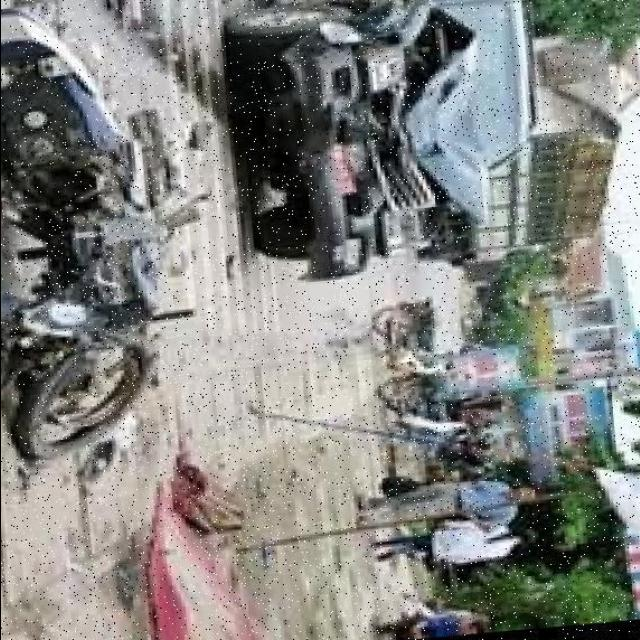accident: (0, 0, 240, 471), (210, 0, 516, 301)
